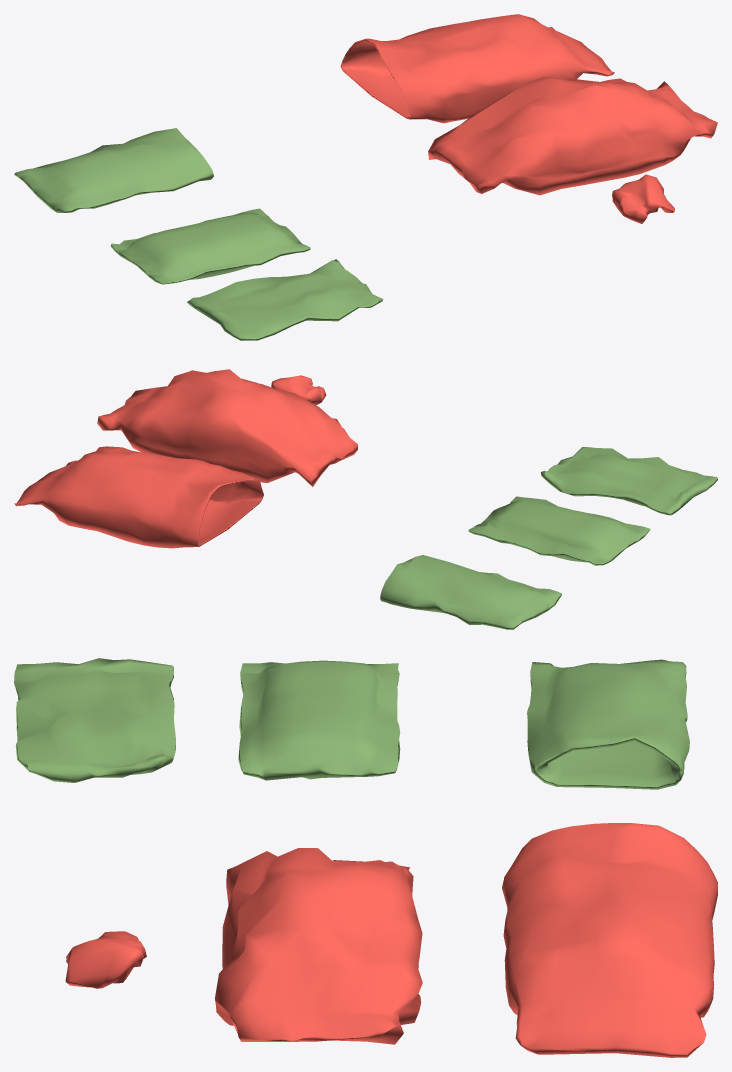
The model's file is bags_low.fbx.
3 renders of one model, top to bottom at view 1: azimuth 30°, elevation 25°; view 2: azimuth 150°, elevation 25°; view 3: azimuth 270°, elevation 25°, orthographic. The views are drawn at different scales.
Visible parts, largest first — view 1: yummyBearClosed_low, yummyBearOpen_low, pepperGhoulsOpen_low, pepperGhoulsClosed_low, pepperGhoulsEmpty_low, yummyBearEmpty_low; view 2: yummyBearClosed_low, yummyBearOpen_low, pepperGhoulsOpen_low, pepperGhoulsClosed_low, pepperGhoulsEmpty_low, yummyBearEmpty_low; view 3: yummyBearOpen_low, yummyBearClosed_low, pepperGhoulsOpen_low, pepperGhoulsClosed_low, pepperGhoulsEmpty_low, yummyBearEmpty_low.
Boxes of the visible parts, x1=… form: yummyBearClosed_low: x1=428, y1=77, x2=717, y2=195; yummyBearOpen_low: x1=340, y1=14, x2=614, y2=123; pepperGhoulsOpen_low: x1=14, y1=128, x2=213, y2=212; pepperGhoulsClosed_low: x1=110, y1=208, x2=310, y2=284; pepperGhoulsEmpty_low: x1=187, y1=259, x2=383, y2=340; yummyBearEmpty_low: x1=612, y1=174, x2=674, y2=223; yummyBearClosed_low: x1=97, y1=369, x2=357, y2=486; yummyBearOpen_low: x1=14, y1=446, x2=263, y2=548; pepperGhoulsOpen_low: x1=380, y1=555, x2=561, y2=629; pepperGhoulsClosed_low: x1=468, y1=496, x2=650, y2=565; pepperGhoulsEmpty_low: x1=540, y1=447, x2=717, y2=515; yummyBearEmpty_low: x1=271, y1=375, x2=326, y2=405; yummyBearOpen_low: x1=502, y1=823, x2=717, y2=1057; yummyBearClosed_low: x1=215, y1=848, x2=422, y2=1044; pepperGhoulsOpen_low: x1=527, y1=659, x2=689, y2=789; pepperGhoulsClosed_low: x1=238, y1=660, x2=400, y2=780; pepperGhoulsEmpty_low: x1=14, y1=658, x2=175, y2=782; yummyBearEmpty_low: x1=65, y1=931, x2=146, y2=988.
Bounding box in the file's own units: 31.47 × 4.95 × 23.07.
